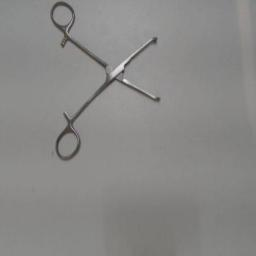Allis Tissue Forceps: (49, 0, 163, 164)
